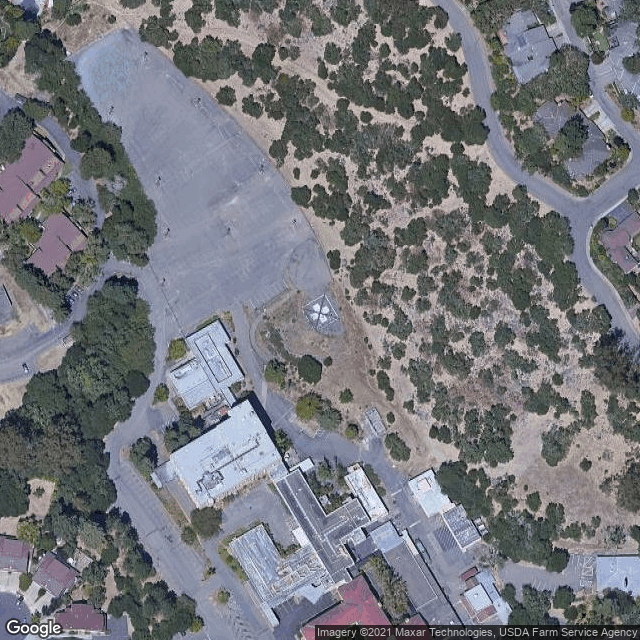Helipad: (301, 290, 339, 331)
